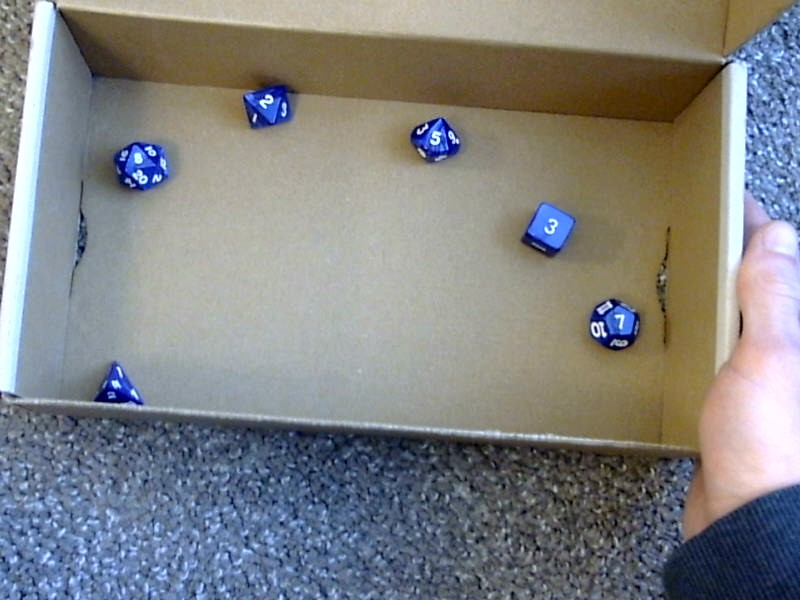d10 5: (408, 112, 463, 164)
d12 7: (584, 290, 640, 354)
d20 8: (109, 133, 173, 193)
d4 2: (89, 355, 145, 407)
d6 3: (517, 193, 578, 261)
d8 2: (233, 77, 296, 132)
